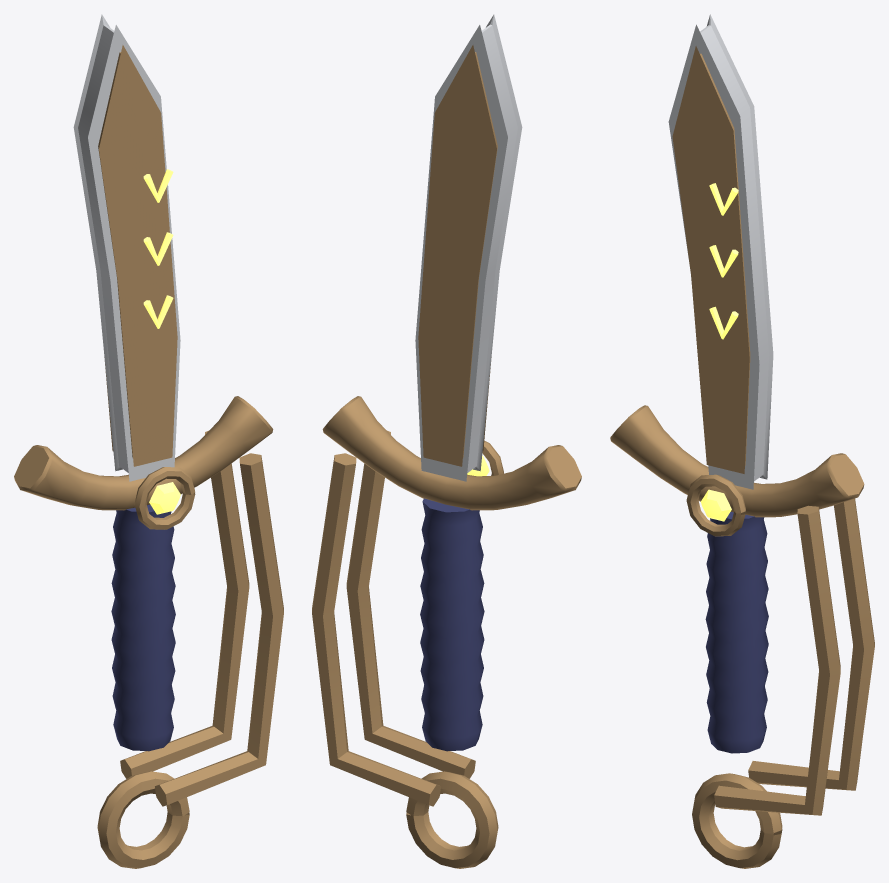
Rendered from artisan_scorpion_tail_dagger.glb.
The picture shows the model from 3 angles, left to right: view 1: azimuth 30°, elevation 25°; view 2: azimuth 150°, elevation 25°; view 3: azimuth 330°, elevation 25°; orthographic projection.
Visible parts, largest first — view 1: artisan_scorpion_tail_dagger; view 2: artisan_scorpion_tail_dagger; view 3: artisan_scorpion_tail_dagger.
Part boxes in pixels (<box>): artisan_scorpion_tail_dagger: <box>14,14,283,868</box>; artisan_scorpion_tail_dagger: <box>312,14,581,868</box>; artisan_scorpion_tail_dagger: <box>610,14,874,868</box>.
Size of the model in its own units: 0.1815 by 0.599 by 0.0633.
